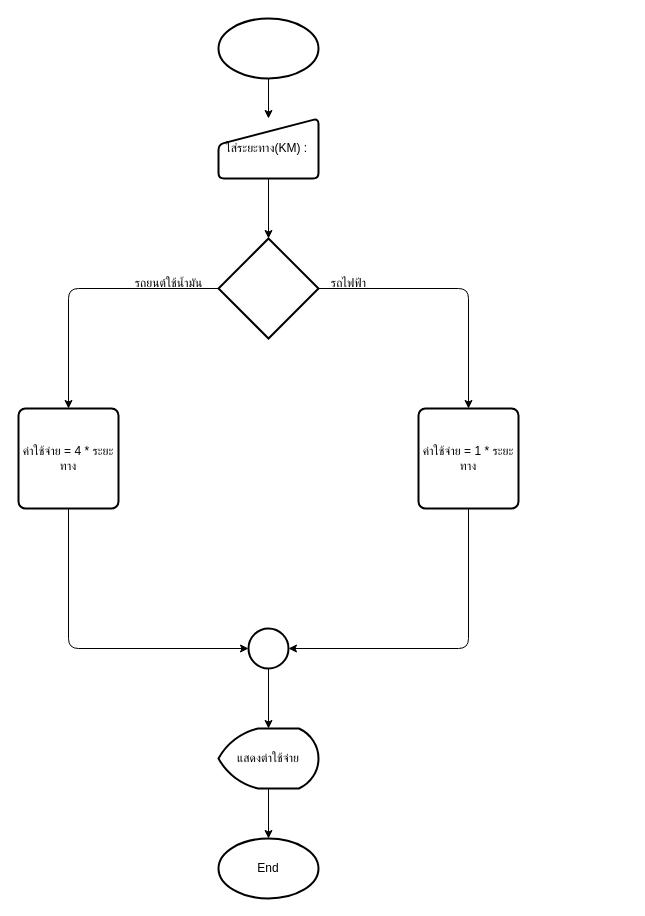
Some shapes in this 645 by 916 pixel diagram are drawn without their labels. Here are the shapes that lost their labels. From the top down, the centre of each, then its label:
At (x=268, y=48): "Start".
At (x=268, y=288): "ยานพาหนะ".
